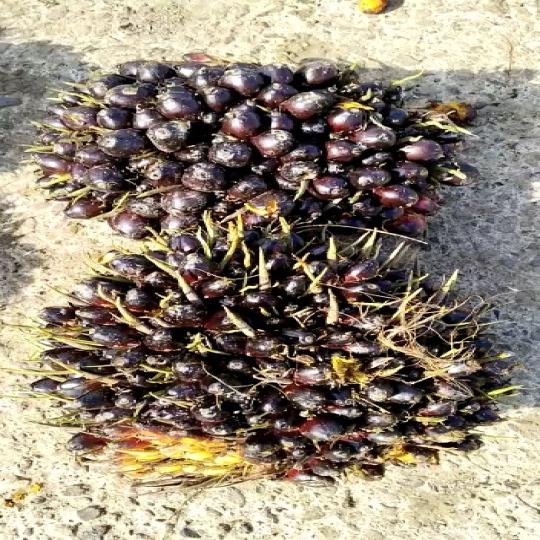mentah: (56, 253, 510, 497), (44, 50, 495, 246)
